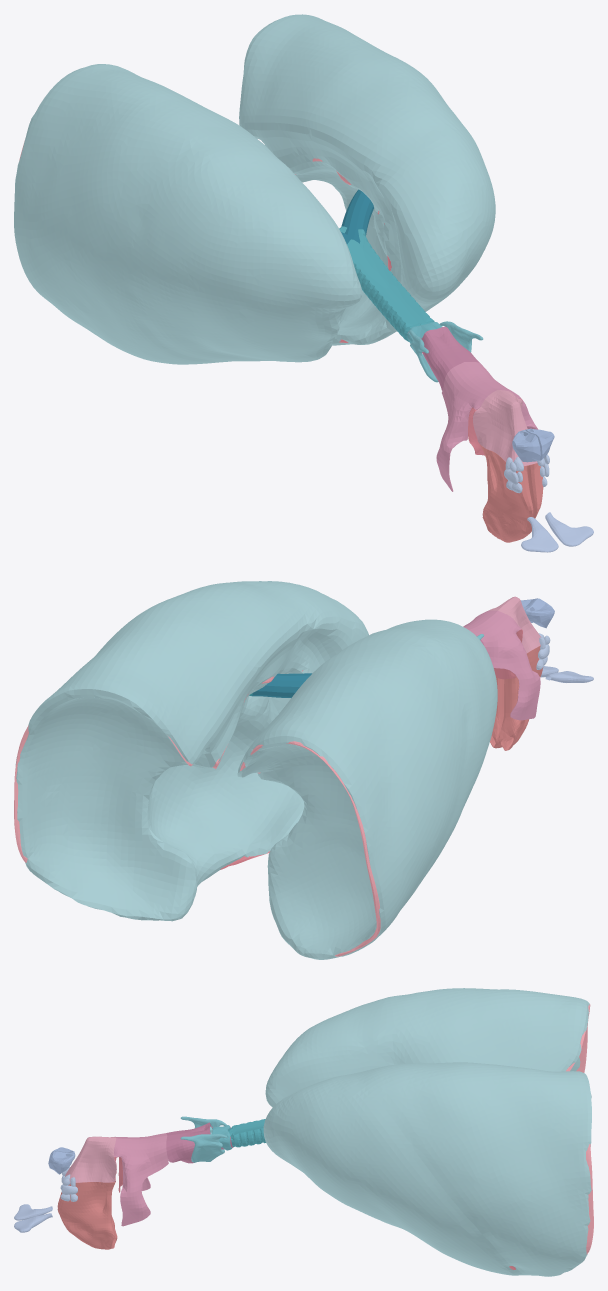
The model's file is meshopt-lossless-3143fb0d088d.glb.
3 renders of one model, top to bottom at view 1: azimuth 30°, elevation 25°; view 2: azimuth 150°, elevation 25°; view 3: azimuth 270°, elevation 25°, orthographic. The views are drawn at different scales.
Parts seen in each view (by area): view 1: 胸膜, 鼻腔黏膜, 口咽, 气管, 鼻咽, 喉咽, 额窦, 蝶窦, 左主支气管, 甲状软骨; view 2: 胸膜, 口咽, 鼻腔黏膜, 右肺下叶, 鼻咽, 左主支气管, 左肺下叶, 蝶窦, 额窦; view 3: 胸膜, 口咽, 鼻腔黏膜, 鼻咽, 甲状软骨, 喉咽, 气管, 额窦, 蝶窦, 左肺下叶.
Part boxes in pixels (x1,y1,x2,y2): 胸膜: (14, 14, 495, 364); 鼻腔黏膜: (480, 444, 543, 542); 口咽: (436, 362, 538, 491); 气管: (339, 226, 434, 341); 鼻咽: (472, 390, 537, 465); 喉咽: (407, 326, 481, 390); 额窦: (521, 512, 593, 552); 蝶窦: (512, 428, 554, 462); 左主支气管: (341, 189, 373, 243); 甲状软骨: (408, 321, 483, 382); 胸膜: (15, 581, 497, 959); 口咽: (463, 610, 540, 720); 鼻腔黏膜: (490, 645, 543, 750); 右肺下叶: (240, 741, 380, 956); 鼻咽: (487, 596, 540, 653); 左主支气管: (252, 673, 311, 697); 左肺下叶: (14, 676, 274, 862); 蝶窦: (521, 598, 554, 628); 额窦: (540, 666, 593, 682); 胸膜: (263, 988, 591, 1276); 口咽: (114, 1133, 168, 1226); 鼻腔黏膜: (57, 1176, 117, 1249); 鼻咽: (65, 1136, 116, 1182); 甲状软骨: (180, 1116, 227, 1162); 喉咽: (166, 1122, 233, 1163); 气管: (228, 1119, 265, 1147); 额窦: (14, 1204, 52, 1232); 蝶窦: (48, 1147, 75, 1174); 左肺下叶: (586, 1144, 593, 1254).
Size of the model in its own units: 0.5656 by 0.4136 by 1.
